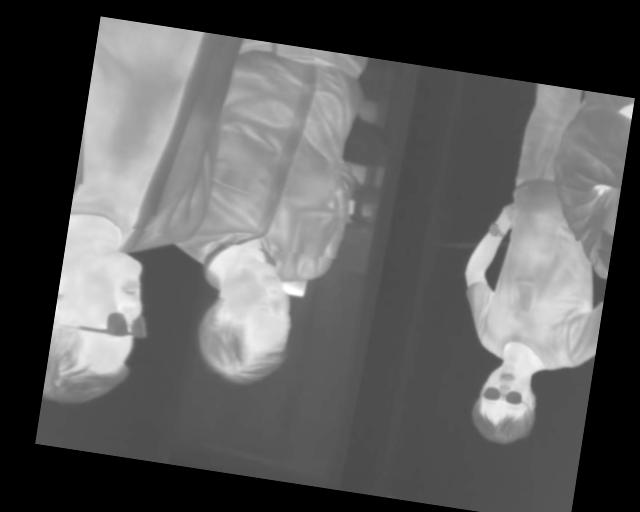face: (41, 244, 155, 414), (189, 254, 301, 390), (467, 355, 543, 449)
